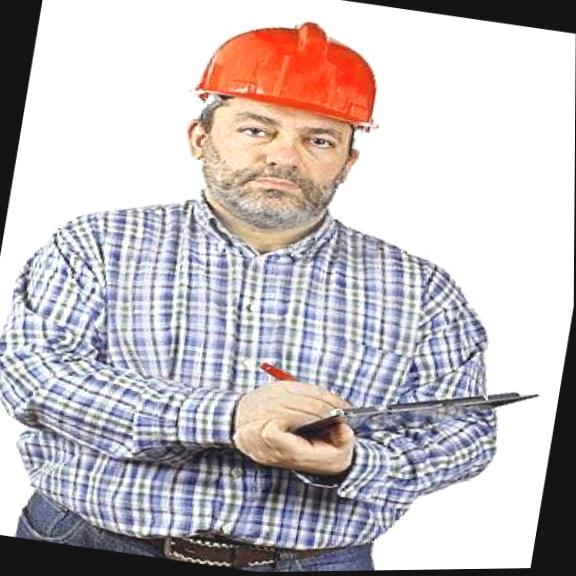no_safety_vest: (0, 167, 538, 576)
